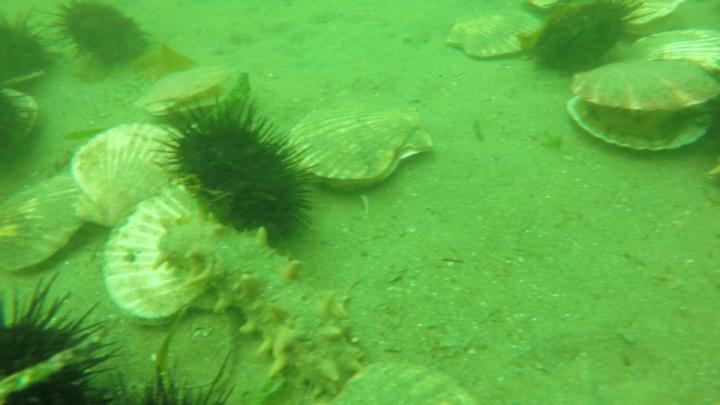echinus: (1, 284, 122, 405), (201, 136, 319, 242), (160, 99, 272, 206), (527, 1, 648, 73), (1, 13, 55, 87), (58, 1, 117, 58), (85, 13, 144, 69)
holothurian: (158, 212, 369, 396)
scallop: (101, 183, 222, 329), (565, 55, 720, 156), (282, 102, 436, 193), (70, 125, 189, 229), (1, 175, 96, 279), (328, 357, 482, 405), (134, 62, 238, 121), (447, 8, 544, 65), (627, 28, 720, 79)
